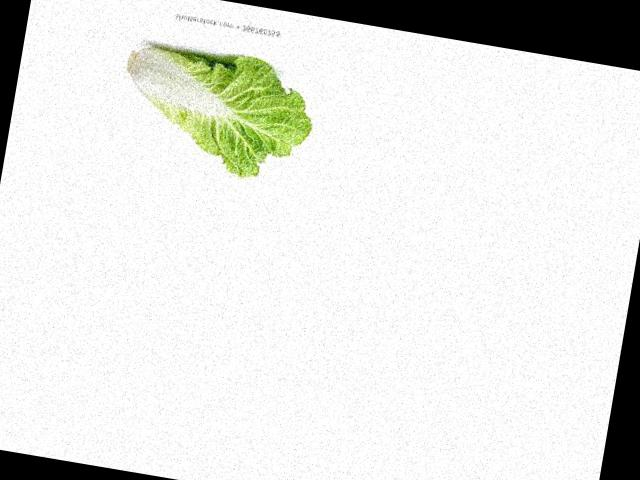lettuce: (121, 40, 305, 168)
